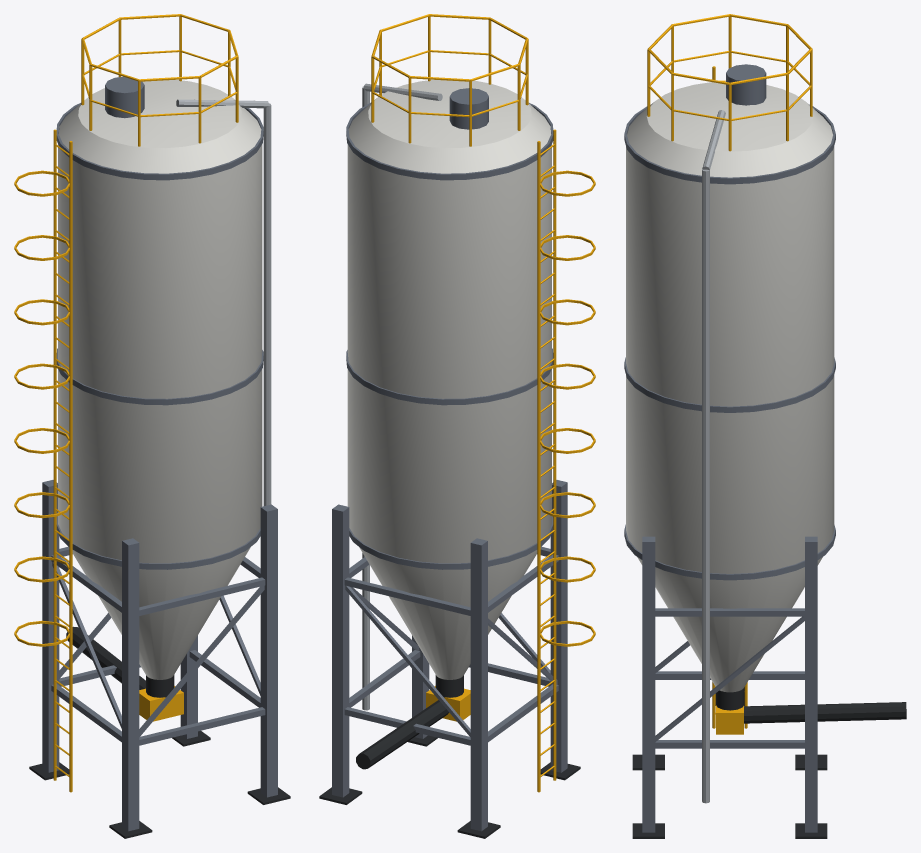
Rendered from plant.cabin.silo.glb.
3 renders of one model, left to right at view 1: azimuth 30°, elevation 25°; view 2: azimuth 150°, elevation 25°; view 3: azimuth 270°, elevation 25°, orthographic.
Parts seen in each view (by area): view 1: main__paint_white, frame__steel_painted, access__plant_yellow, main__steel_painted, main__steel_galvanised, frame__steel_dark, main__steel_dark, main__plant_yellow; view 2: main__paint_white, frame__steel_painted, access__plant_yellow, main__steel_painted, main__steel_dark, main__steel_galvanised, frame__steel_dark, main__plant_yellow; view 3: main__paint_white, frame__steel_painted, main__steel_painted, main__steel_galvanised, access__plant_yellow, main__steel_dark, frame__steel_dark, main__plant_yellow.
Part boxes in pixels (box(x1,y1,x2,y2)): main__paint_white: box(58, 79, 262, 679); frame__steel_painted: box(42, 480, 277, 831); access__plant_yellow: box(14, 14, 238, 792); main__steel_painted: box(56, 76, 263, 569); main__steel_galvanised: box(176, 99, 271, 505); frame__steel_dark: box(29, 731, 290, 838); main__steel_dark: box(66, 626, 174, 697); main__plant_yellow: box(139, 686, 183, 721); main__paint_white: box(347, 79, 551, 679); frame__steel_painted: box(332, 480, 567, 831); access__plant_yellow: box(371, 14, 595, 792); main__steel_painted: box(346, 88, 553, 569); main__steel_dark: box(356, 675, 463, 769); main__steel_galvanised: box(362, 83, 442, 710); frame__steel_dark: box(319, 735, 580, 838); main__plant_yellow: box(426, 686, 470, 721); main__paint_white: box(626, 81, 834, 692); frame__steel_painted: box(642, 536, 817, 832); main__steel_painted: box(624, 64, 835, 580); main__steel_galvanised: box(702, 110, 725, 803); access__plant_yellow: box(647, 14, 812, 728); main__steel_dark: box(715, 687, 906, 723); frame__steel_dark: box(632, 754, 827, 838); main__plant_yellow: box(716, 705, 743, 734).
Bounding box in the file's own units: 3.53 × 10.32 × 3.52.
